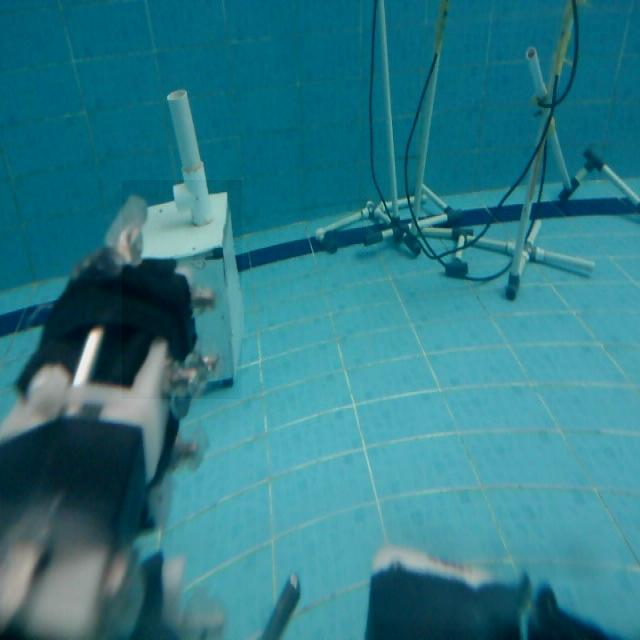Cube: (122, 180, 242, 399)
